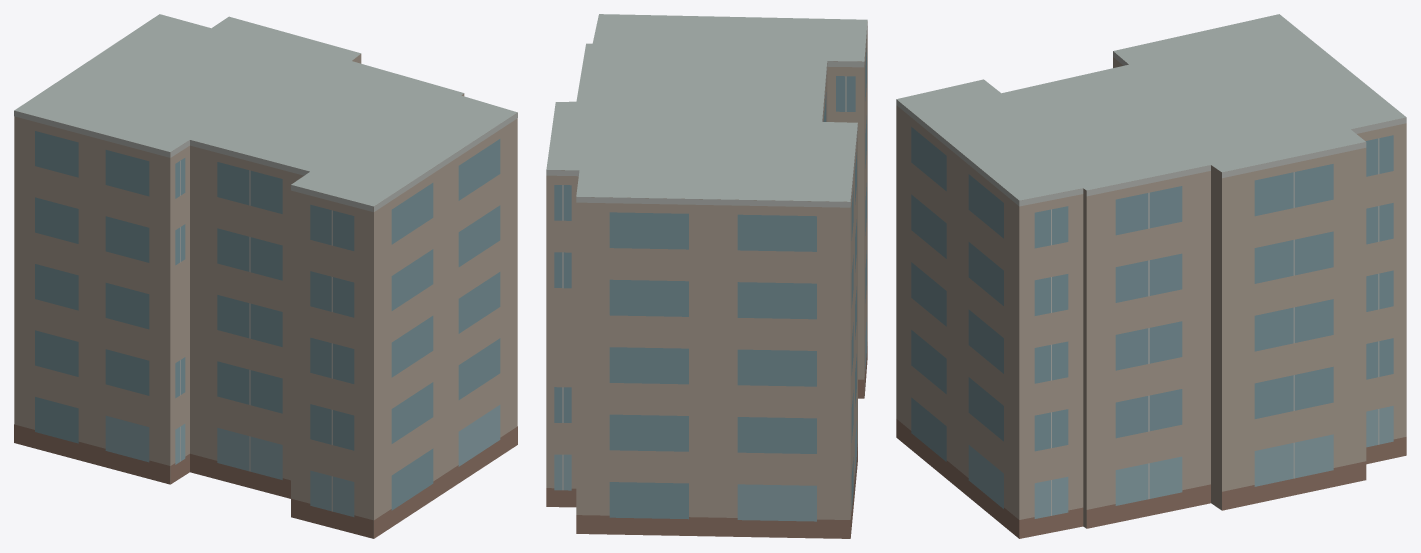
Rendered from survey-upis-32755512.glb.
The picture shows the model from 3 angles, left to right: view 1: azimuth 30°, elevation 25°; view 2: azimuth 150°, elevation 25°; view 3: azimuth 270°, elevation 25°; orthographic projection.
Visible parts, largest first — view 1: survey-upis-32755512.tmp; view 2: survey-upis-32755512.tmp; view 3: survey-upis-32755512.tmp.
Part boxes in pixels (<box>): survey-upis-32755512.tmp: <box>14,14,517,538</box>; survey-upis-32755512.tmp: <box>546,14,867,538</box>; survey-upis-32755512.tmp: <box>896,14,1406,538</box>.
Bounding box in the file's own units: 16.7 × 14.1 × 19.29.
